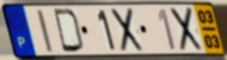1: (96, 9, 117, 51), (157, 8, 177, 52)
D: (52, 8, 86, 54)
I: (35, 8, 55, 54)
X: (110, 6, 145, 53), (169, 6, 204, 53)
